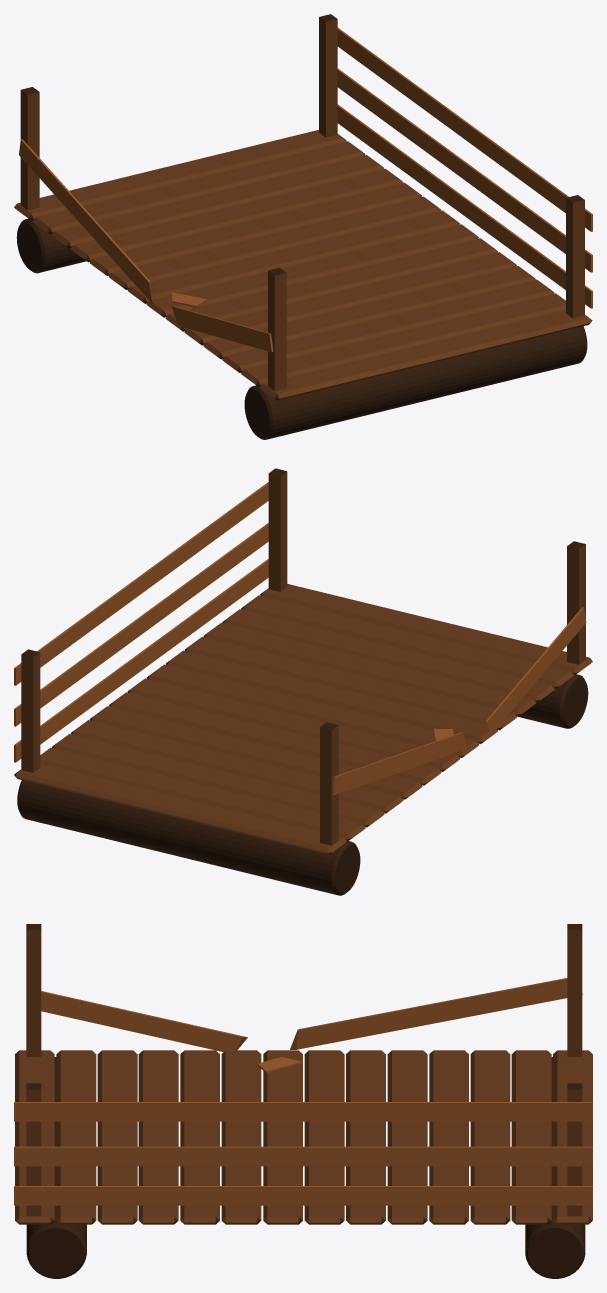
The model's file is WoodPlatForm2.fbx.
3 views of the same model, one above another, from view 1: azimuth 30°, elevation 25°; view 2: azimuth 150°, elevation 25°; view 3: azimuth 270°, elevation 25° (orthographic). The views are drawn at different scales.
Parts seen in each view (by area): view 1: Cube.023; view 2: Cube.023; view 3: Cube.023.
Boxes of the visible parts, x1,y1,x2,y2 form: Cube.023: (14, 14, 592, 439); Cube.023: (14, 468, 592, 895); Cube.023: (14, 924, 592, 1278).
Size of the model in its own units: 318 by 164 by 457.
